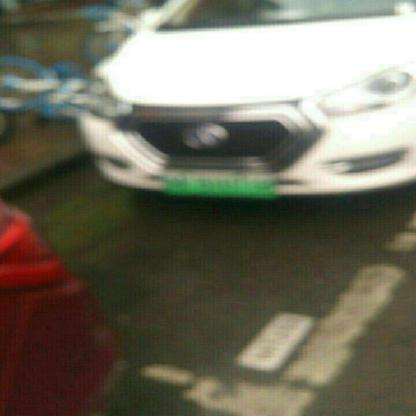lp: (166, 177, 273, 197)
